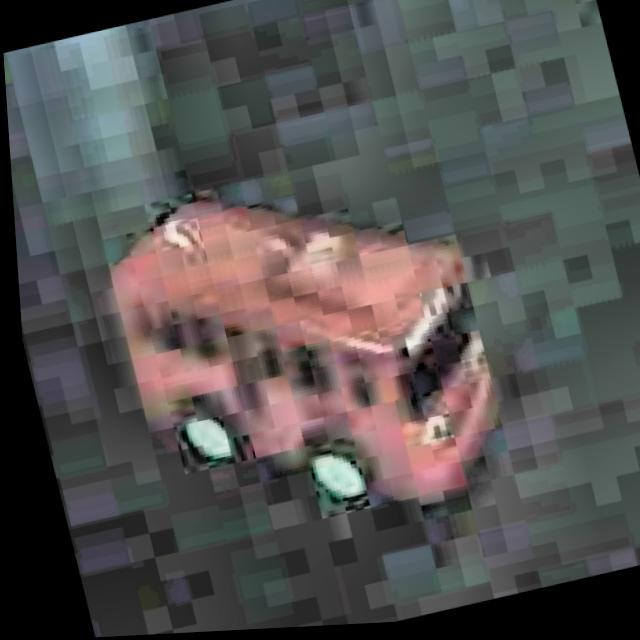bus: (74, 127, 540, 575)
